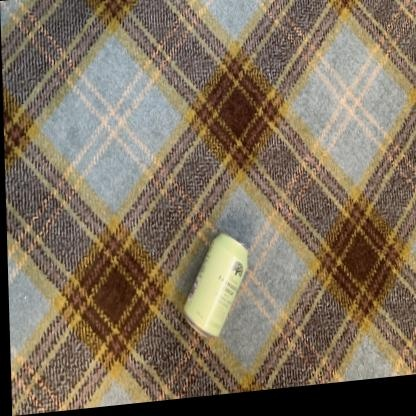trash: (184, 233, 247, 335)
